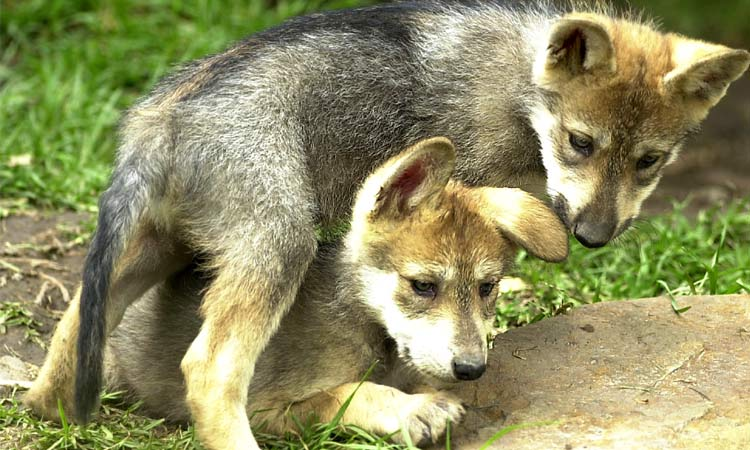Lobo: (492, 14, 734, 269), (337, 132, 565, 397)
